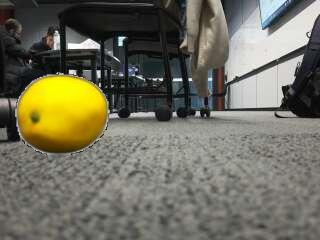lemon: (19, 77, 107, 153)
